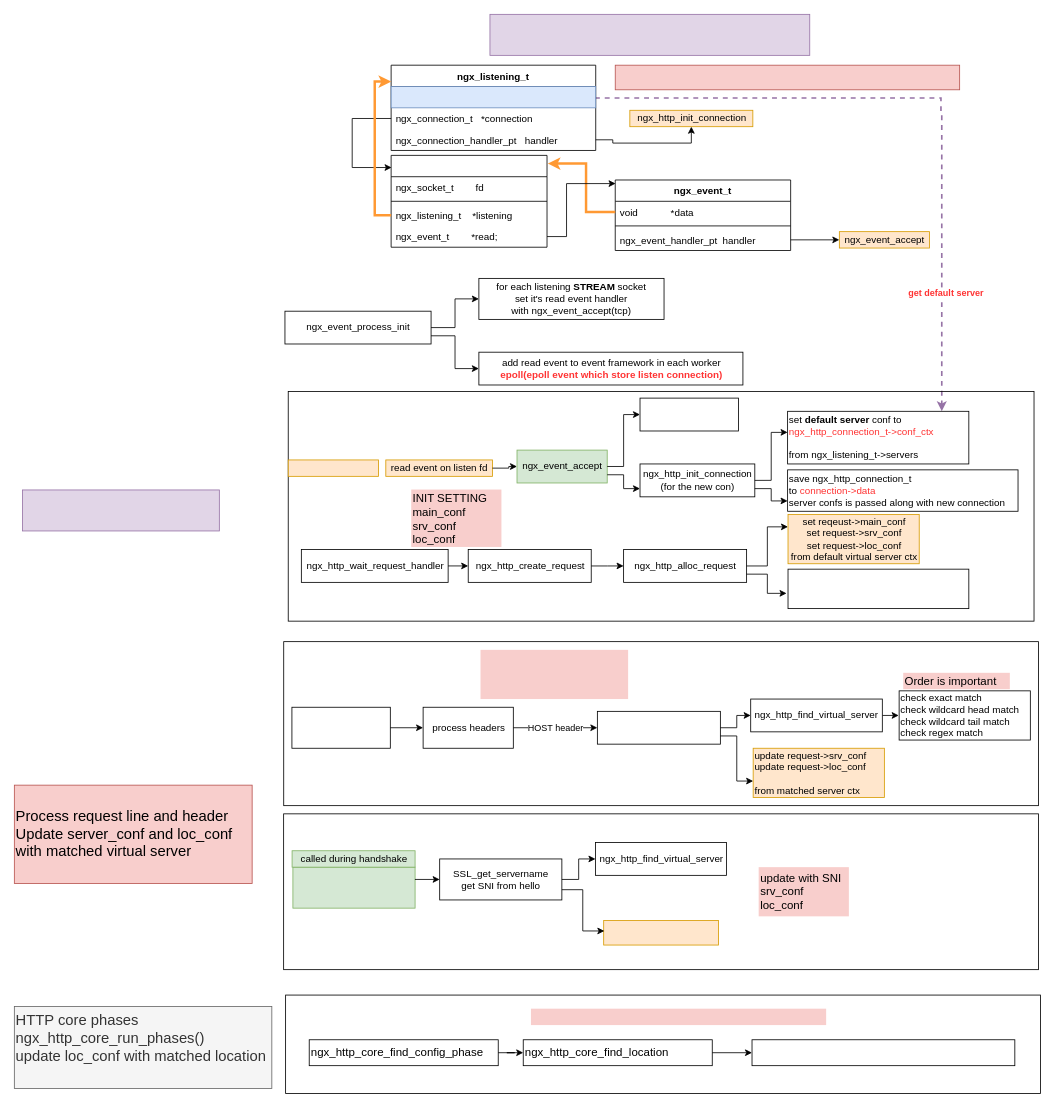
This 1055x1111 diagram has some shape labels left out. The shapes that lost their labels are listed below. From the top down, each one's box as (x1, y1, x2, y2) in pixels, then its label:
(489, 14, 810, 55): request conf ctx finding
(390, 86, 596, 108): void *servers(vs listen on same ip +port)
(614, 64, 960, 90): listening fd(ip+port)<1:1> ngx_connection <1:1> epoll event
(390, 155, 547, 247): ngx_connection_t
(639, 397, 738, 431): get a free connection set up connection info
(287, 459, 378, 476): connection setup
(22, 489, 219, 531): INIT request default virtual server conf ctx
(787, 568, 969, 609): create variable value slot for all used variables(used in nginx.conf)
(480, 649, 628, 699): update with HOST header srv_conf loc_conf
(291, 706, 390, 748): process request line
(597, 711, 720, 744): ngx_http_set_virtual_server
(292, 866, 415, 908): ngx_http_ssl_servername
(603, 920, 718, 945): set hc->conf_ctx with matched server ctx
(531, 1008, 826, 1025): update loc_conf in NGX_HTTP_FIND_CONFIG_PHASE
(751, 1039, 1015, 1066): check all location for this server selelted above
